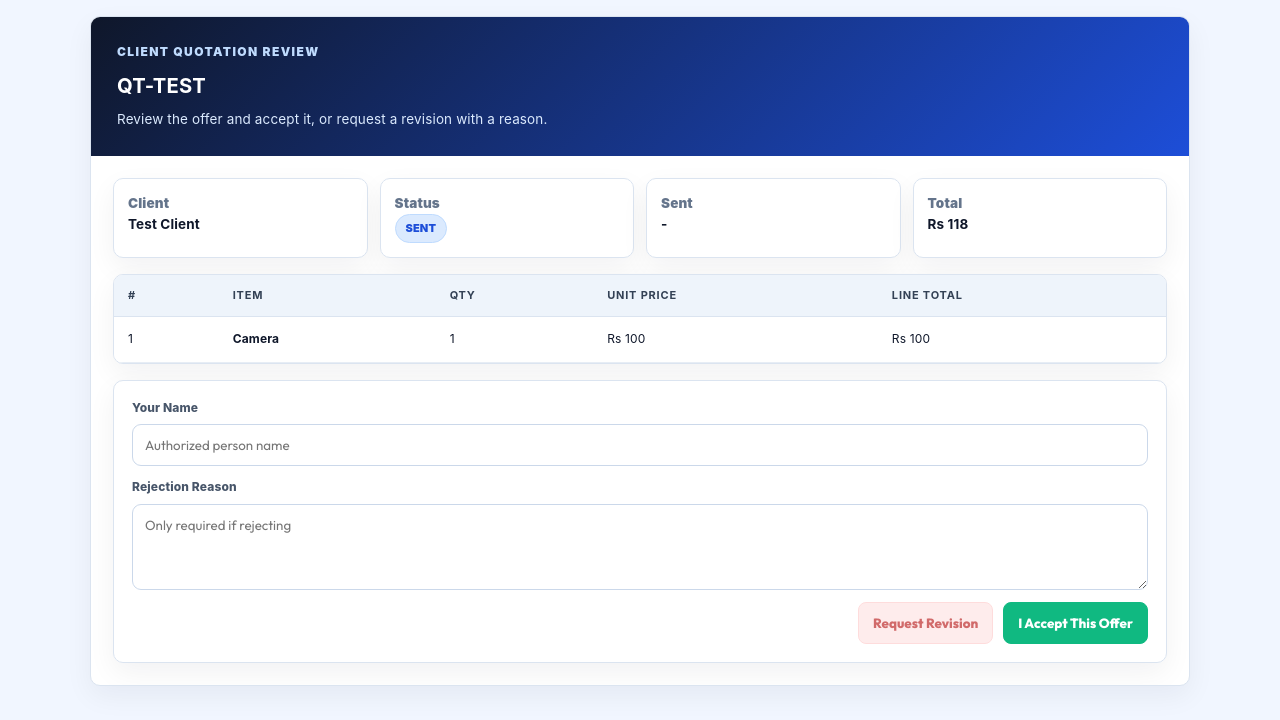
Test: client approval page › sends a rejection reason and closes the form
Check: the button "I Accept This Offer" is shown, box [1003, 602, 1148, 644]
Step 1. Type "Revise the quantity" into the text box with placeholder "Only required if rejecting" → (640, 547), box [132, 504, 1148, 590]
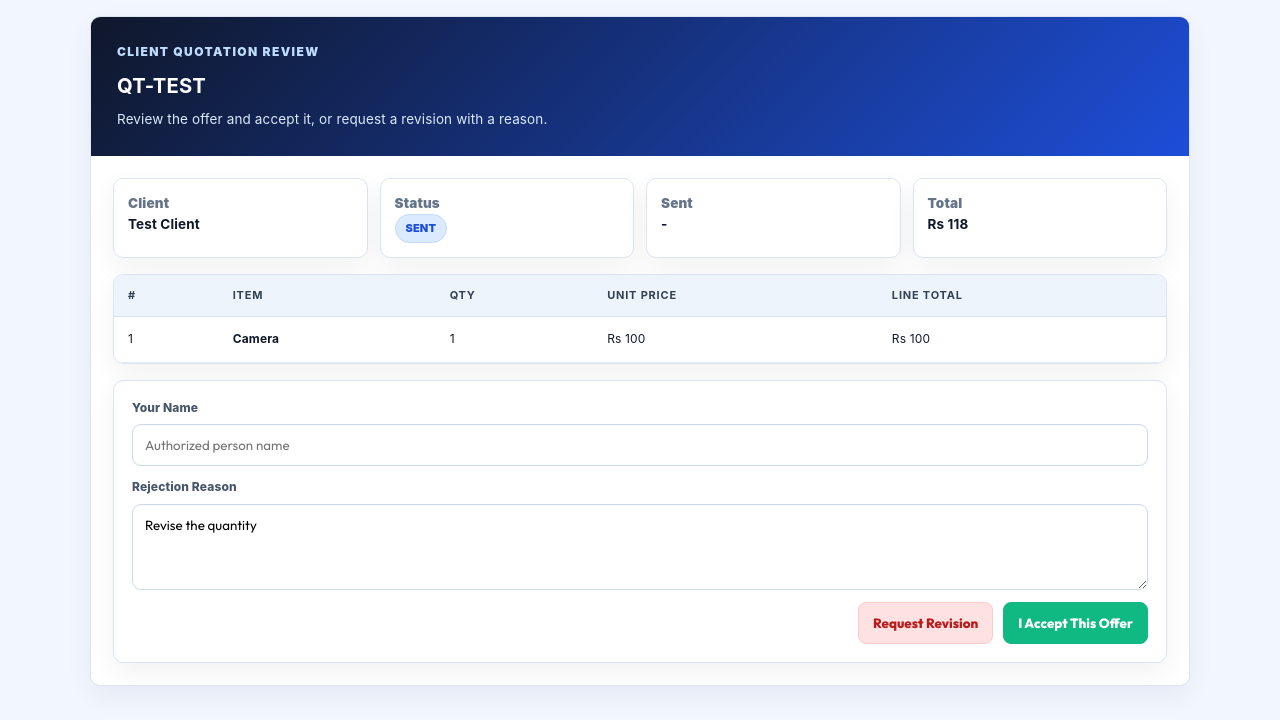
Step 2. Click the button "Request Revision" → (926, 623), box [858, 602, 993, 644]
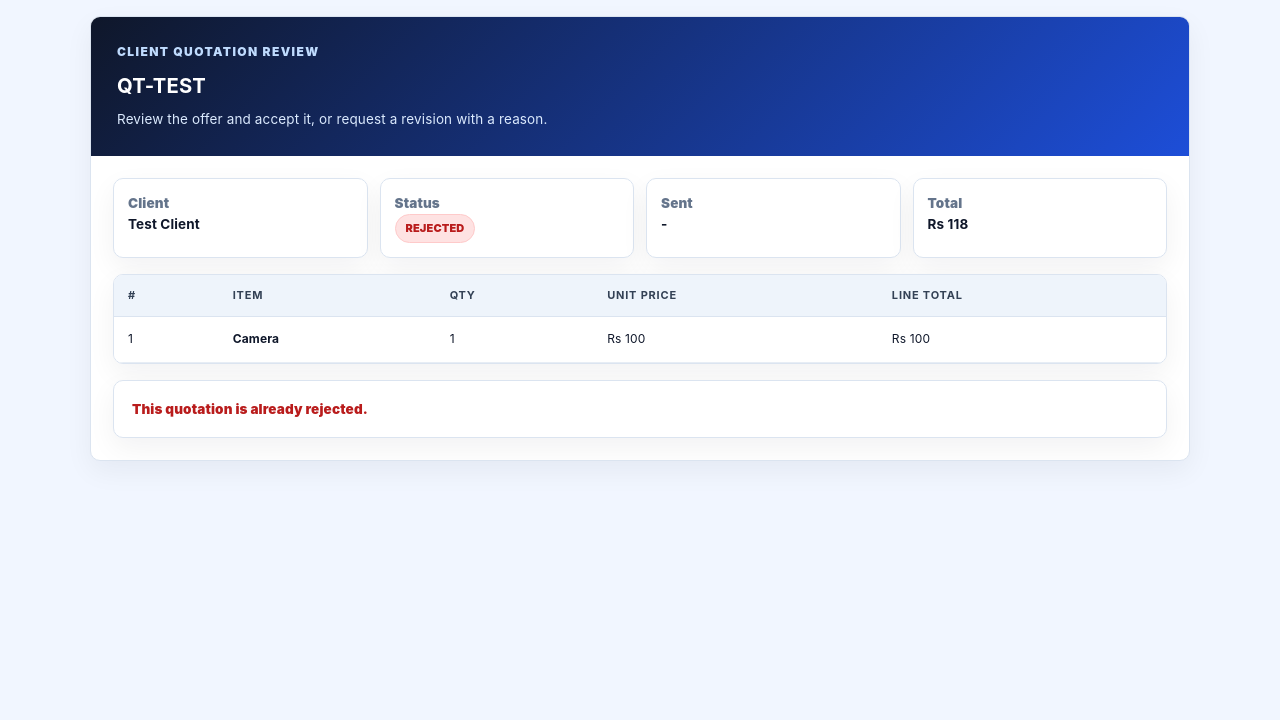
Check: the text "This quotation is already rejected." is shown, box [113, 380, 1167, 438]
